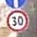limite 30: (5, 8, 29, 33)
